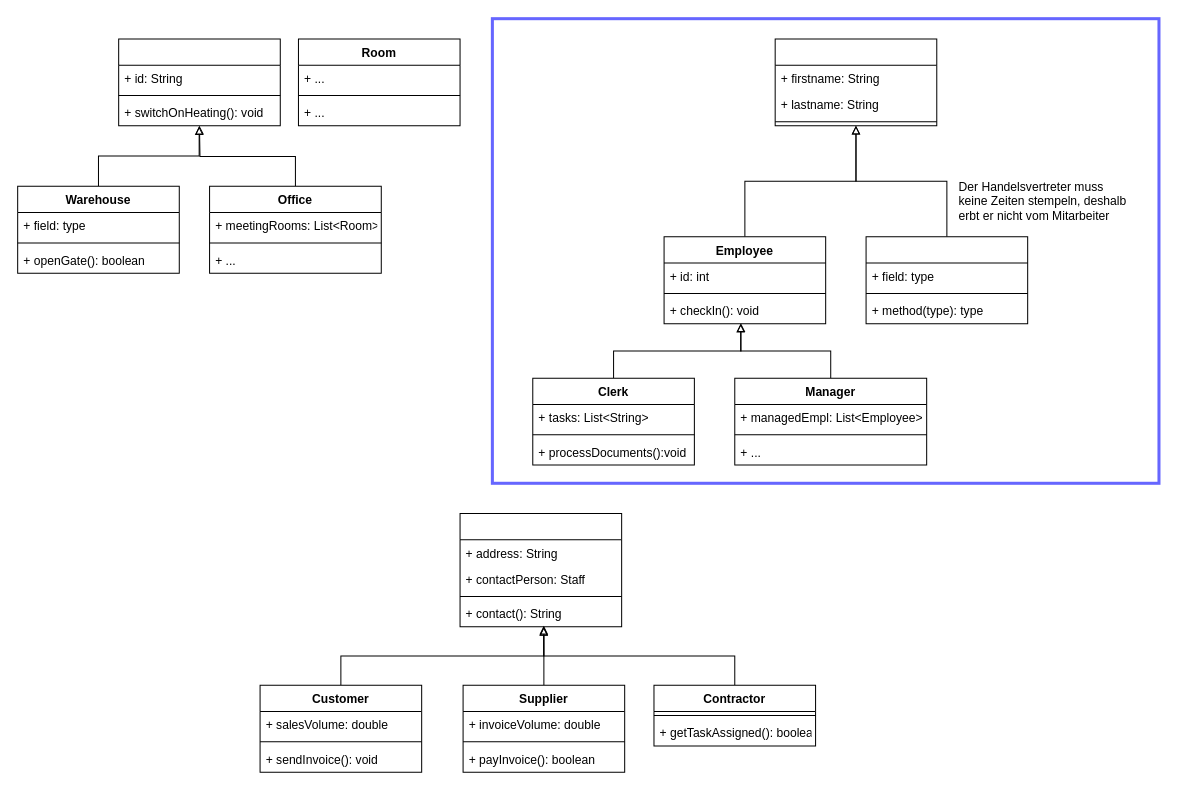
Image size: 1178x793. Some labels were removed from this diagram. The shapes that lost their labels are listed below. From the top down, each one's box as (x1, y1, x2, y2) in pixels, then its label:
(118, 38, 280, 126): Building
(774, 38, 937, 126): Person
(865, 236, 1028, 324): Representative
(459, 513, 622, 627): Business Partner
